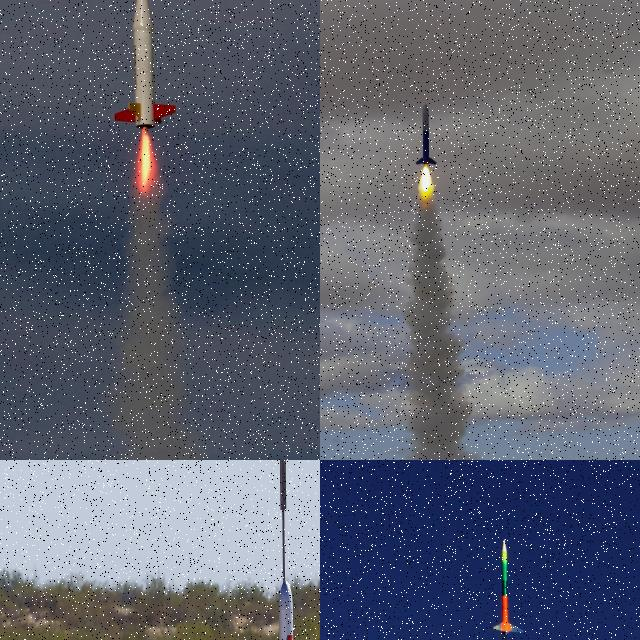Rocket: (113, 0, 177, 129), (492, 538, 525, 636), (271, 577, 306, 640), (415, 107, 437, 165)
